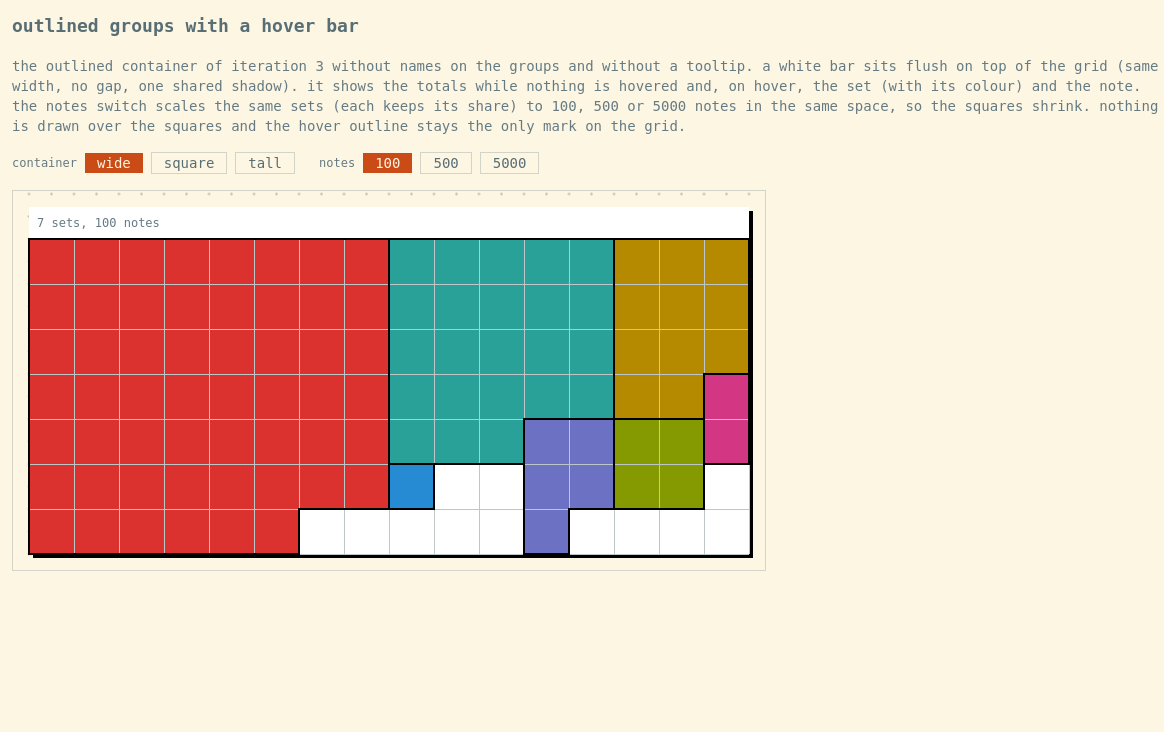
Test: BarSlottingSection › shows more notes in the same space
This screenshot has width=1164, height=732.
Click the button "5000" at (510, 163), box [480,152,540,174]
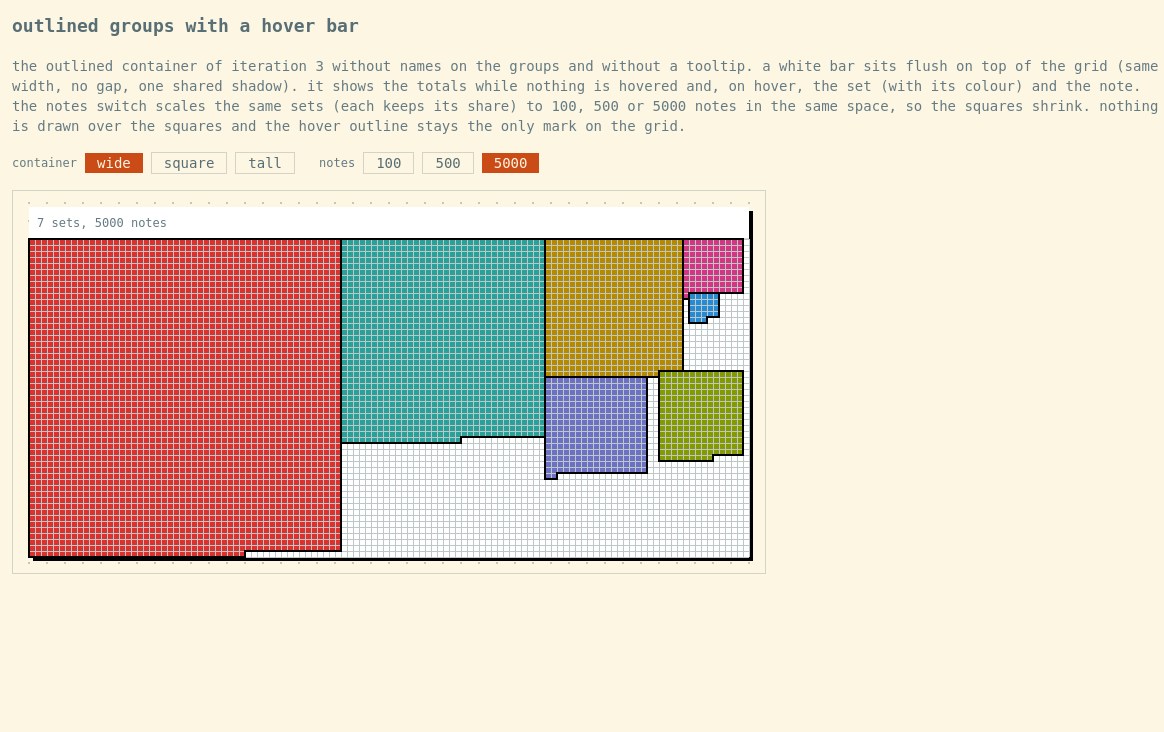
Expected: the text "7 sets, 5000 notes" is shown, [37,214,167,230]
